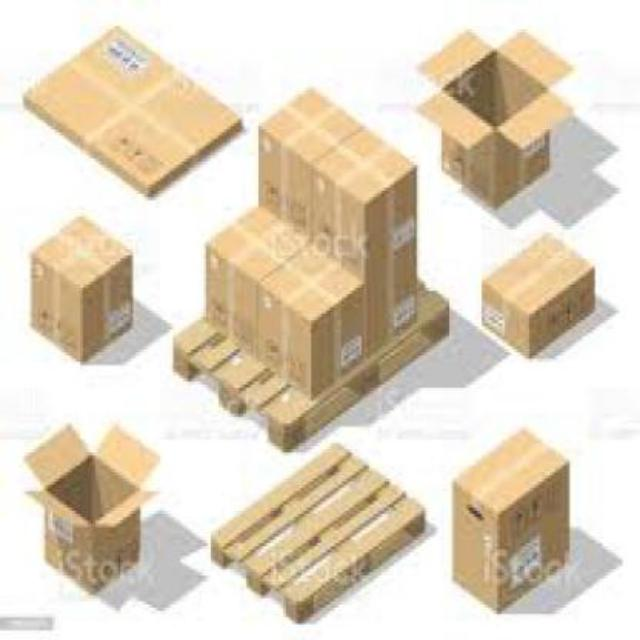cardboard_box: (30, 26, 238, 194), (408, 34, 570, 210), (448, 422, 588, 618), (21, 421, 157, 601), (24, 222, 140, 371), (476, 235, 598, 358), (264, 258, 358, 394), (314, 144, 416, 256), (206, 217, 292, 347), (265, 93, 329, 239), (340, 242, 426, 348)
